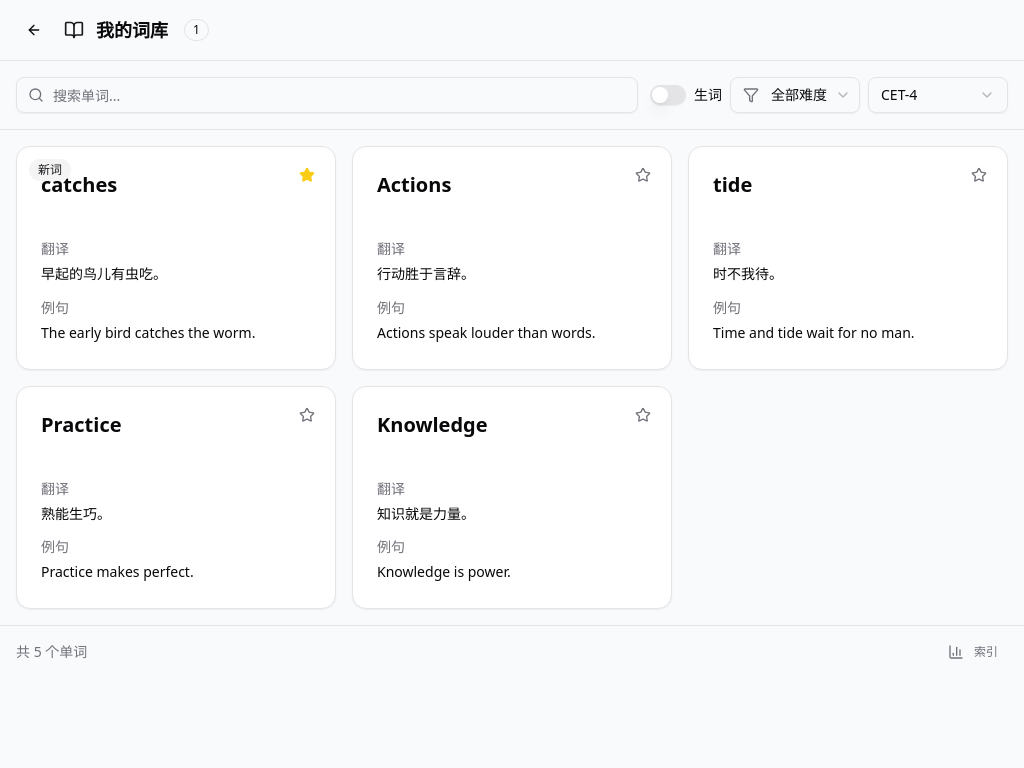
DictionaryBrowser › Indexed search path (searchByQuery) › shows empty state when index returns no matches
Check: the text "catches" is shown, box 41,171 -> 117,198
In the field with placeholder "搜索单词...": [327, 95] box 16,77 -> 638,113, type "xyzzy"
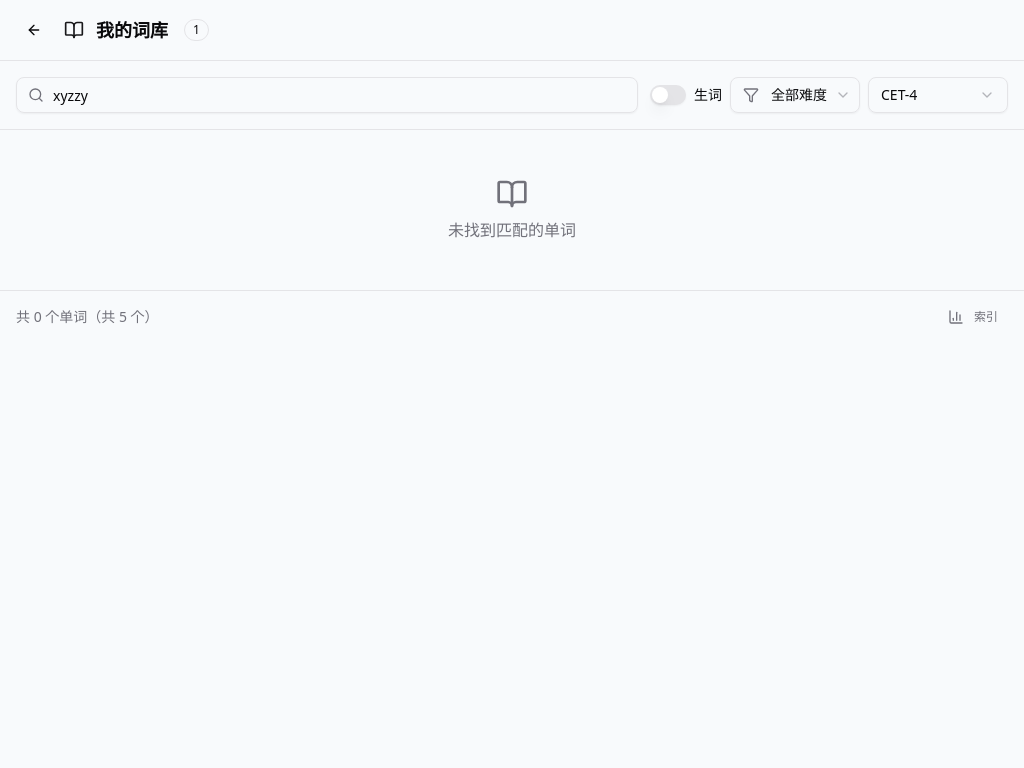
Check: the text "未找到匹配的单词" is shown, box 448,218 -> 576,242
Check: the text "共 0 个单词（共 5 个）" is shown, box 16,307 -> 159,327
